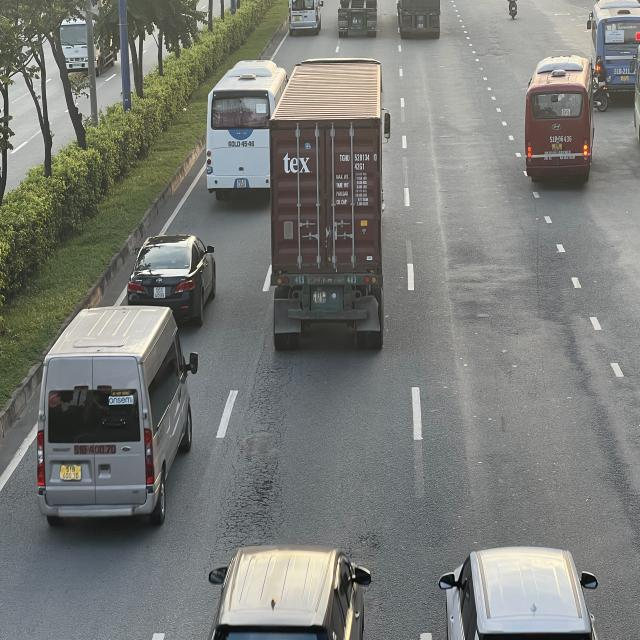car: (440, 545, 603, 640), (208, 545, 373, 637), (126, 234, 216, 326)
coach: (207, 61, 275, 201), (525, 53, 594, 180), (588, 0, 638, 97)
container: (270, 55, 389, 347)
van: (40, 304, 202, 529), (289, 0, 325, 34)
